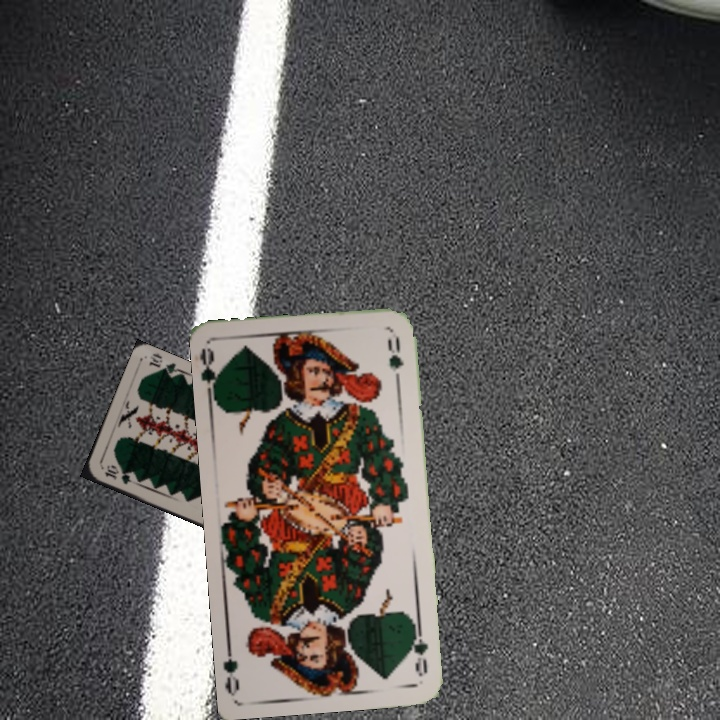G10: (100, 461, 138, 487)
GO: (197, 345, 225, 405), (406, 620, 431, 679)
